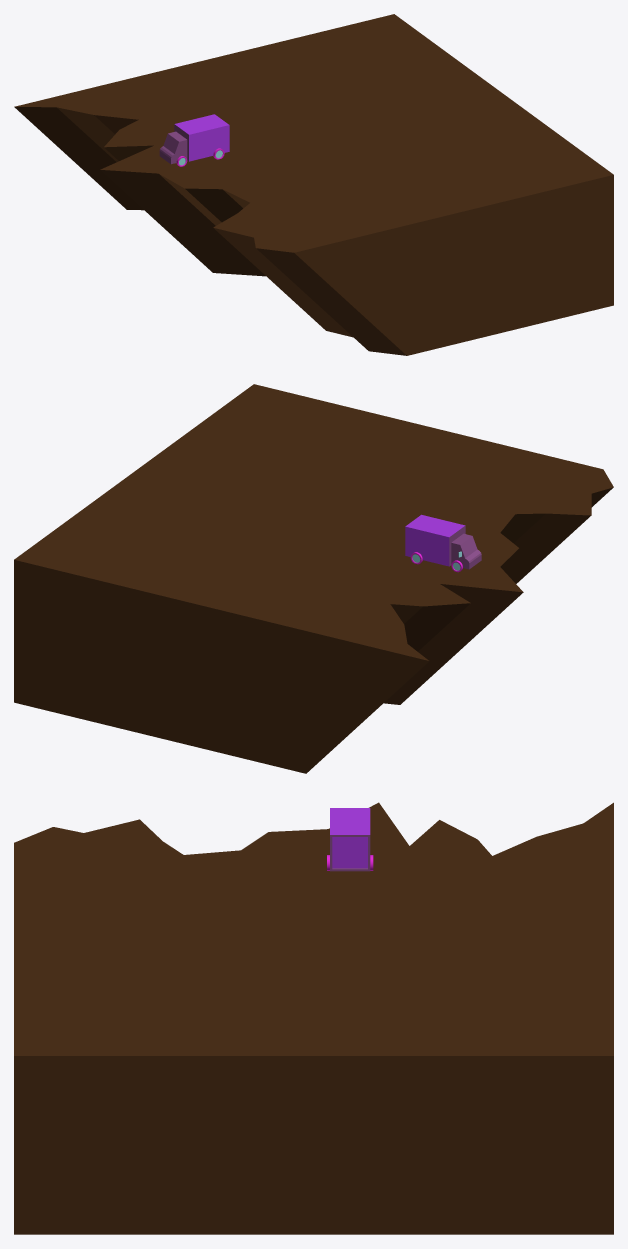
File: WolfJam2026Menu3d.fbx
3 views of the same model, one above another, from view 1: azimuth 30°, elevation 25°; view 2: azimuth 150°, elevation 25°; view 3: azimuth 270°, elevation 25° (orthographic). The views are drawn at different scales.
Visible parts, largest first — view 1: Plane, Cylinder; view 2: Plane, Cylinder; view 3: Plane, Cylinder.
Part boxes in pixels (<box>): Plane: <box>14,14,613,355</box>; Cylinder: <box>159,114,229,166</box>; Plane: <box>14,384,613,773</box>; Cylinder: <box>405,514,481,572</box>; Plane: <box>14,802,613,1234</box>; Cylinder: <box>327,808,373,871</box>.
Bounding box in the file's own units: 2970 × 1204 × 2970.
